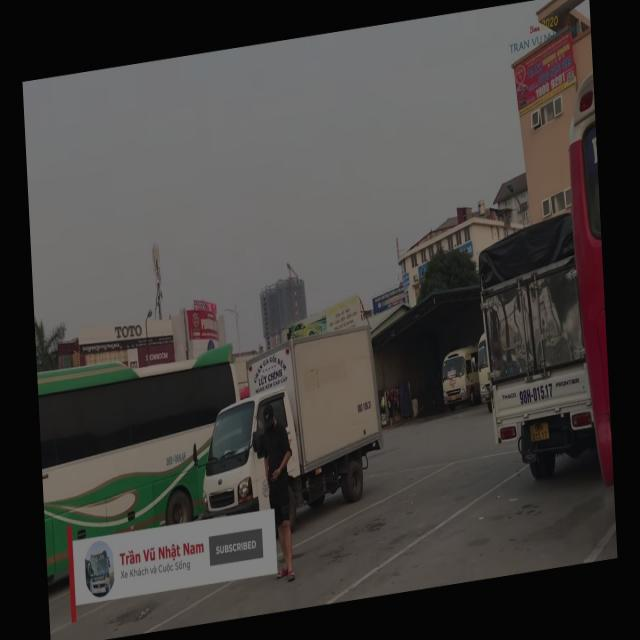bien_vang: (528, 422, 550, 442)
